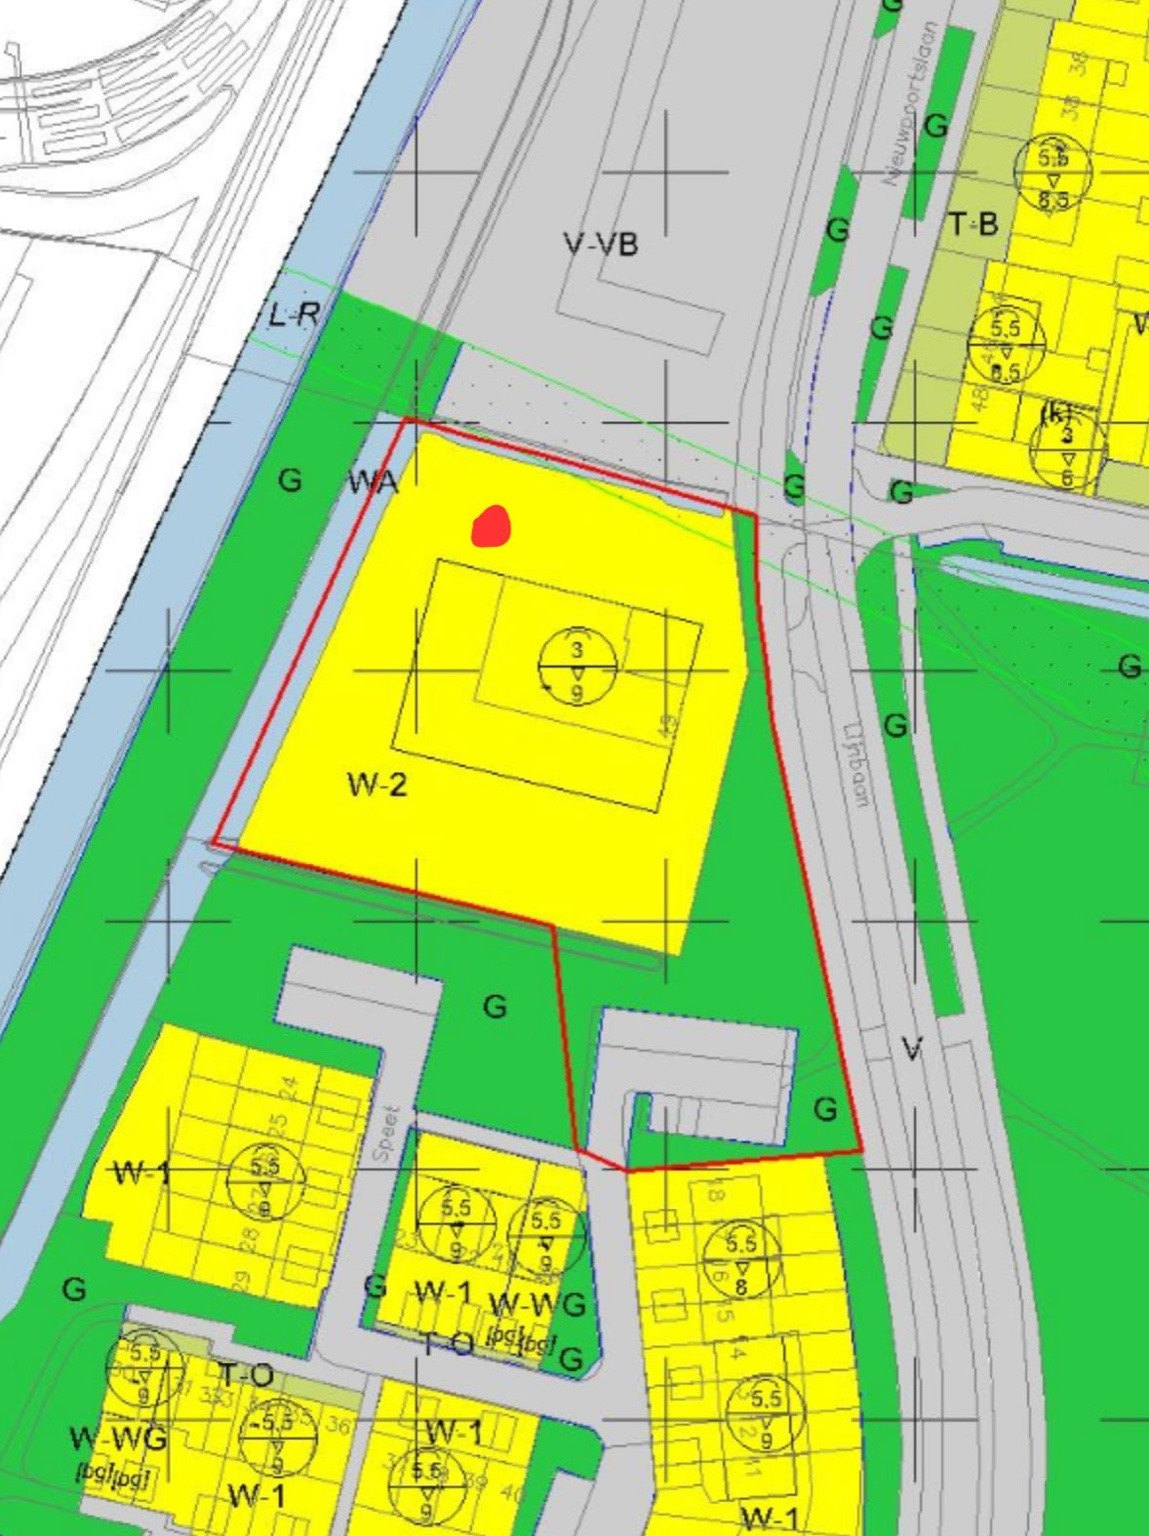Bestemming: (62, 1418, 174, 1454), (489, 1289, 591, 1321), (342, 763, 416, 802), (409, 1275, 480, 1312), (735, 1501, 805, 1536), (224, 1474, 292, 1511), (113, 1156, 181, 1191)
Bouwhoogte: (434, 1193, 483, 1223), (746, 1382, 791, 1409), (126, 1333, 168, 1362), (1033, 144, 1074, 173), (719, 1226, 763, 1251), (408, 1458, 445, 1485), (986, 313, 1023, 339), (245, 1151, 286, 1175), (526, 1209, 568, 1232), (258, 1407, 294, 1433), (564, 633, 590, 662), (1057, 424, 1075, 444)
Goothoogte: (1034, 183, 1077, 217), (982, 360, 1027, 385), (532, 1245, 562, 1277), (263, 1449, 298, 1476), (562, 677, 596, 703), (414, 1499, 442, 1529), (252, 1193, 278, 1226), (445, 1237, 473, 1266), (129, 1386, 162, 1411), (1052, 467, 1086, 490), (729, 1273, 757, 1301), (756, 1427, 780, 1456)
Waardes: (719, 1369, 809, 1454), (103, 1325, 189, 1411), (962, 300, 1049, 385), (224, 1140, 310, 1225), (506, 1195, 591, 1279), (699, 1217, 785, 1302), (383, 1444, 468, 1528), (1026, 408, 1112, 491), (235, 1398, 323, 1479), (535, 625, 618, 707), (1014, 132, 1095, 215), (418, 1185, 498, 1263)
